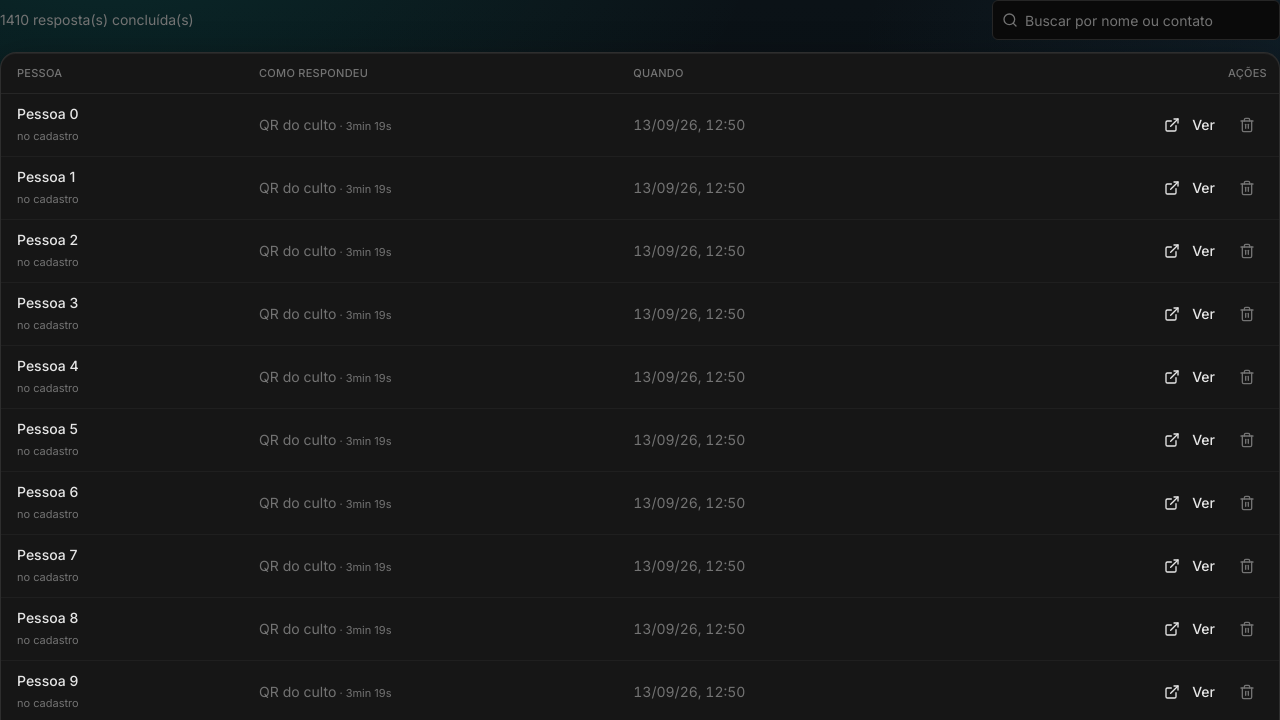
Test: AbaRespostas · o total é do banco, a página tem 50 › apaga alguém que veio da BUSCA, não da página (o bug de 24/09)
The width and height of the screenshot is (1280, 720).
Later steps or results of the test are not shown.
Step 1. Type "kevyn" into the field with placeholder "Buscar por nome ou contato" → (1136, 20), box [992,0,1279,40]
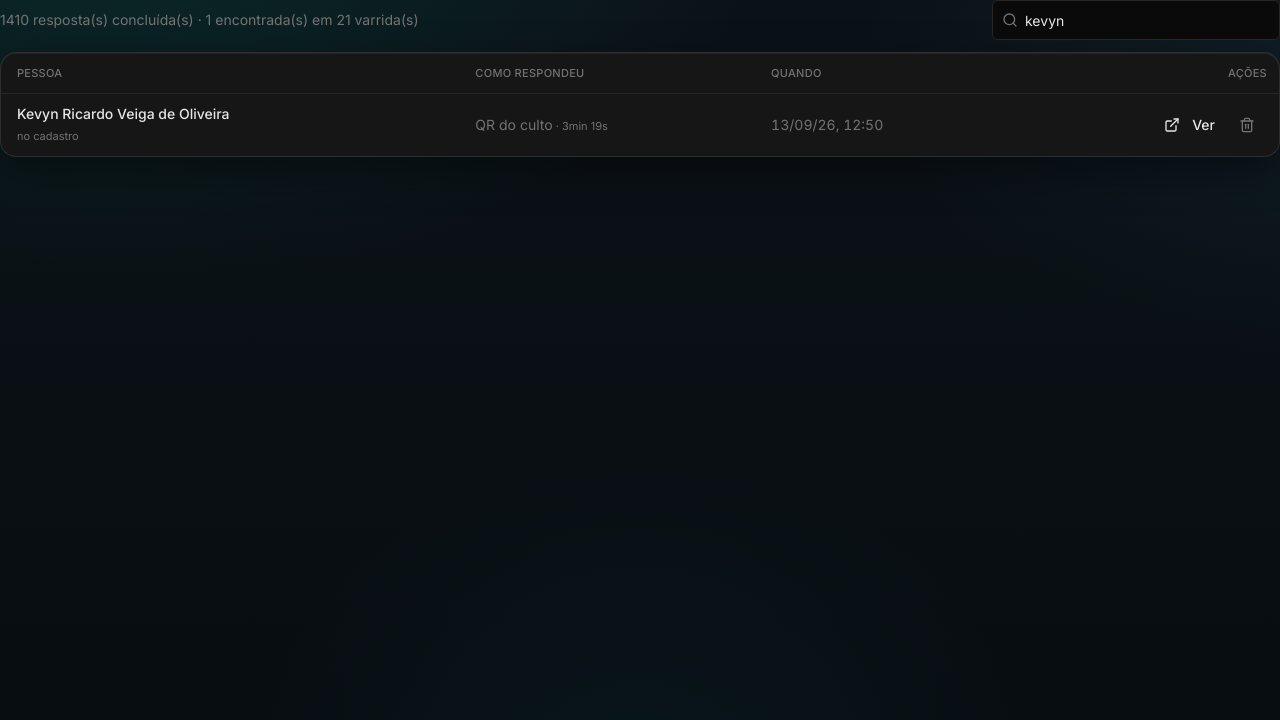
Expected: the button "Kevyn Ricardo Veiga de Oliveira" is shown, [17,104,230,124]
// Abre pelo "Ver" e usa o botão do MODAL — o caminho que estava quebrado.
Step 2. Click the button "Ver" → (1190, 125), box [1152,107,1227,143]
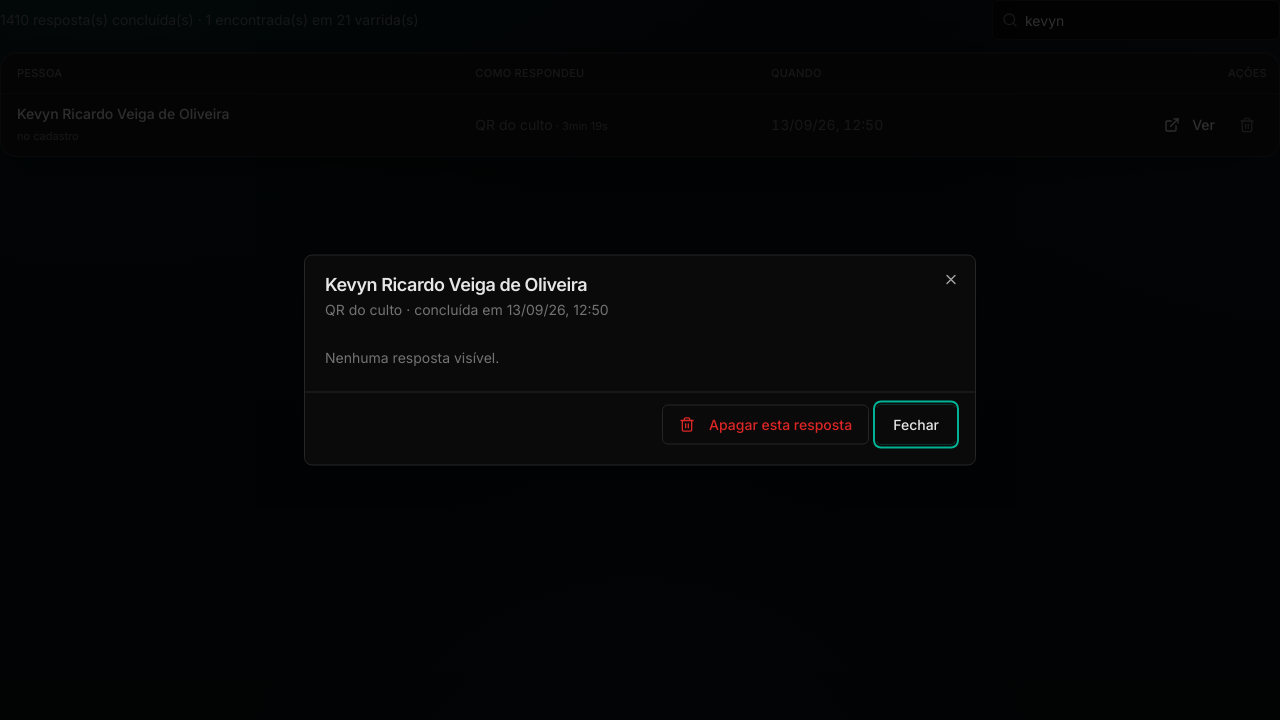
Step 3. Click the button "Apagar esta resposta" → (766, 424), box [662,404,869,444]
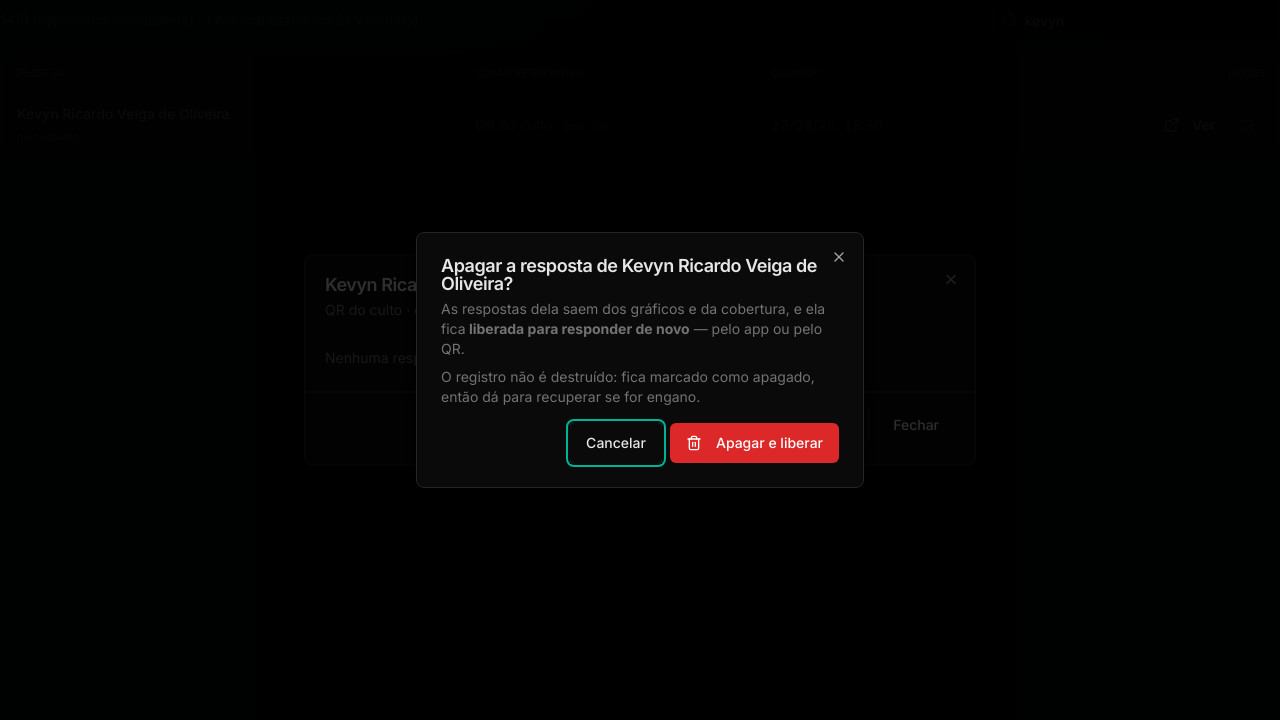
Expected: the heading "Apagar a resposta de Kevyn Ricardo Veiga de Oliveira?" is shown, [441,257,839,293]
